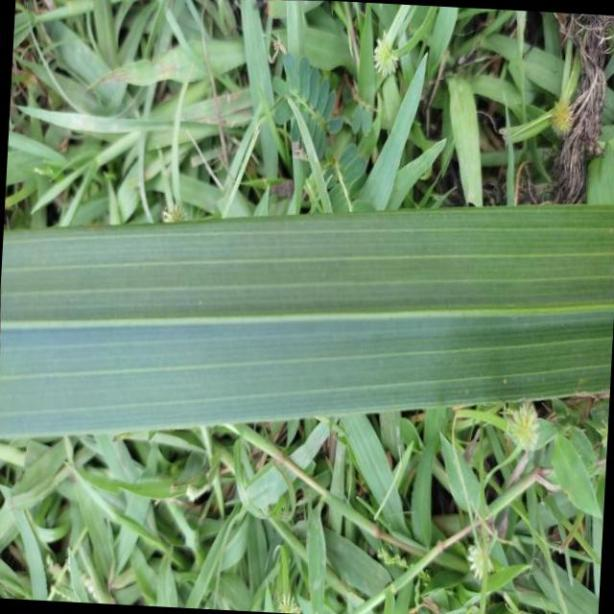Healthy: (0, 203, 614, 446)
